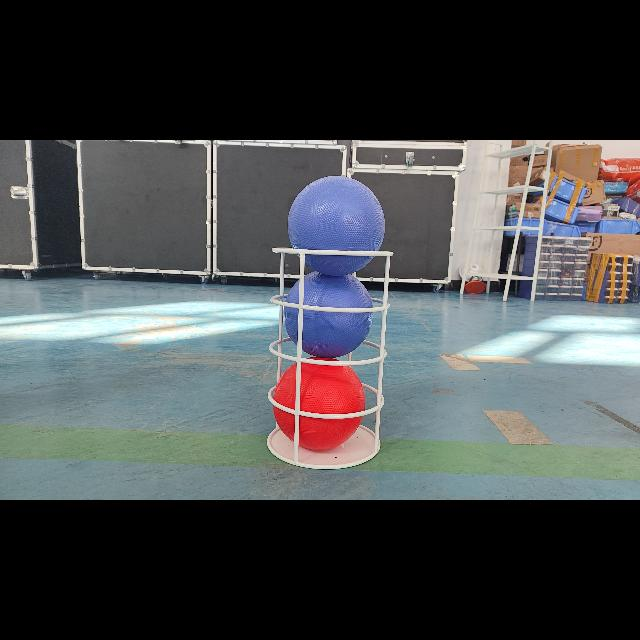B: (288, 175, 386, 277), (283, 268, 373, 359)
R: (272, 359, 372, 451)
S: (262, 245, 402, 470)
